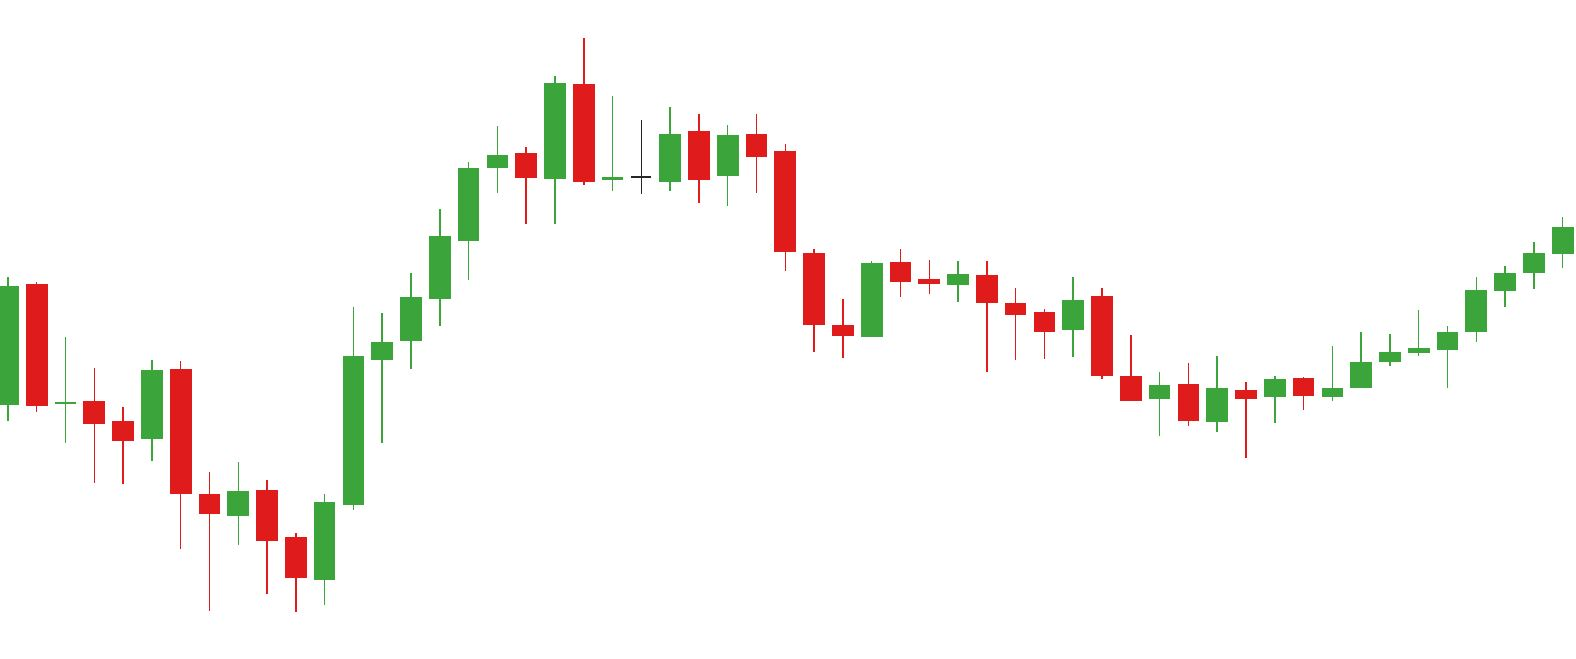buy: (835, 260, 1001, 375)
